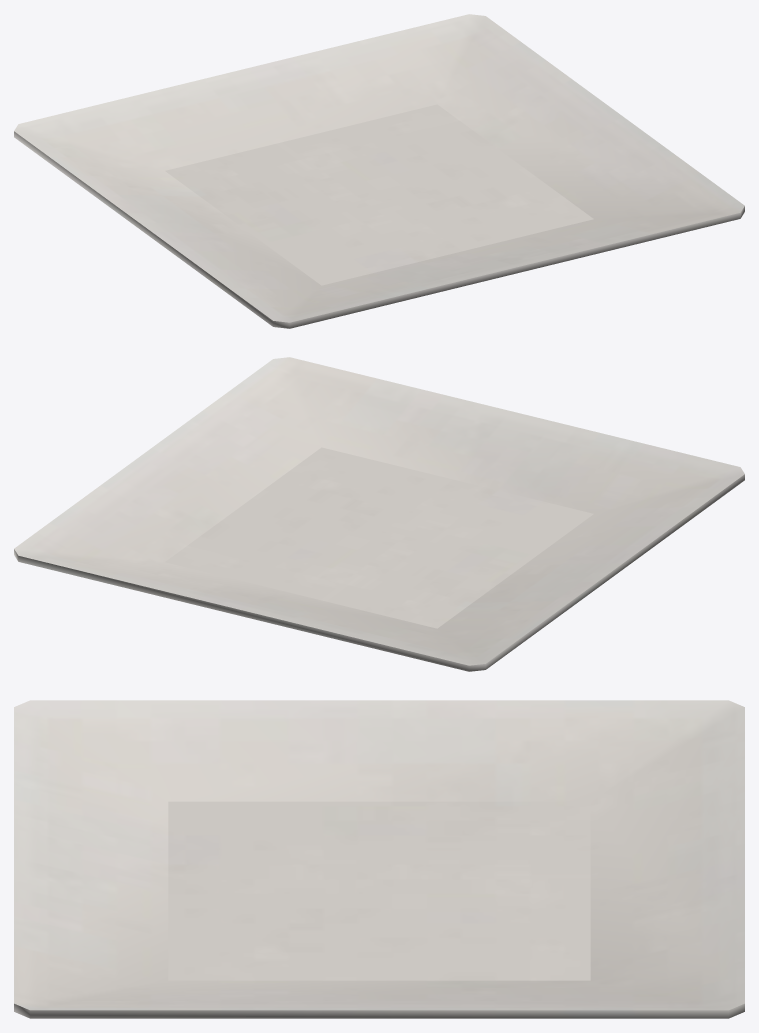
The model's file is T_Kitchen_Plate_04.glb.
3 views of the same model, one above another, from view 1: azimuth 30°, elevation 25°; view 2: azimuth 150°, elevation 25°; view 3: azimuth 270°, elevation 25° (orthographic). The views are drawn at different scales.
Parts seen in each view (by area): view 1: T_Kitchen_Plate_04; view 2: T_Kitchen_Plate_04; view 3: T_Kitchen_Plate_04.
Part boxes in pixels (x1=…): T_Kitchen_Plate_04: x1=14, y1=14, x2=744, y2=328; T_Kitchen_Plate_04: x1=14, y1=357, x2=744, y2=671; T_Kitchen_Plate_04: x1=14, y1=700, x2=744, y2=1018.
Bounding box in the file's own units: 0.3679 × 0.0286 × 0.3664.
1 material, 1 textured.
